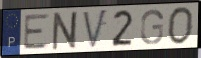2: (111, 9, 135, 49)
E: (22, 12, 51, 51)
G: (139, 9, 165, 46)
N: (51, 10, 81, 52)
O: (166, 6, 195, 46)
V: (82, 7, 109, 51)
